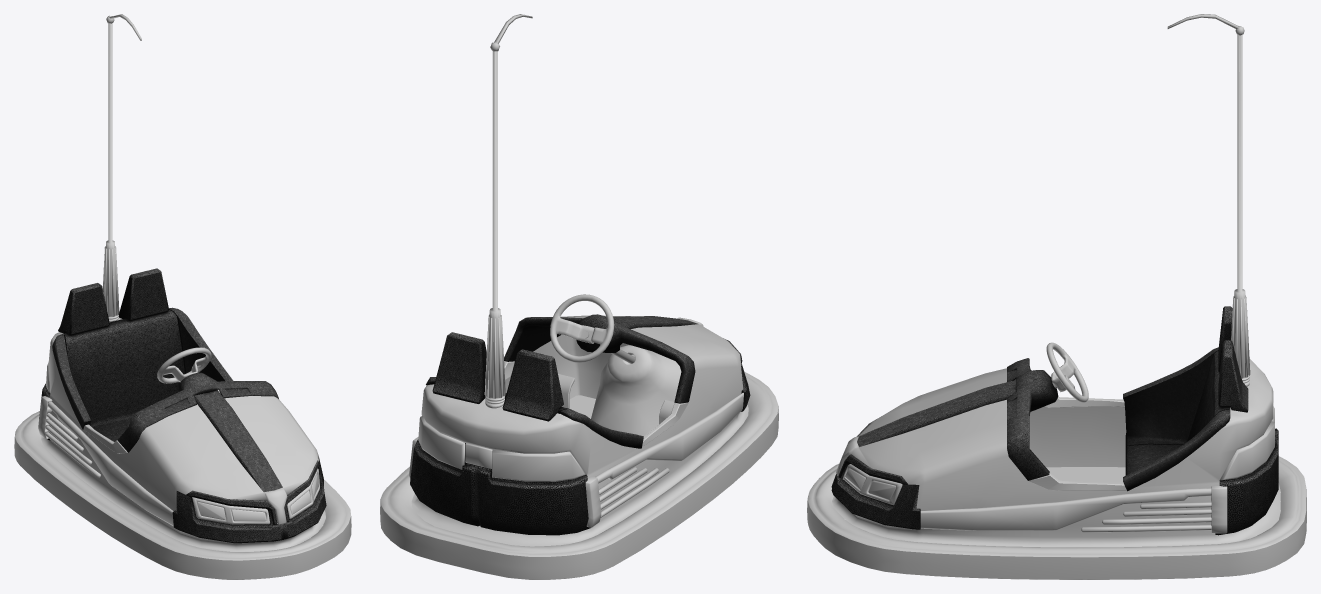
Rendered from carrito_chocon.obj.
3 views of the same model, side by side, from view 1: azimuth 30°, elevation 25°; view 2: azimuth 150°, elevation 25°; view 3: azimuth 270°, elevation 25° (orthographic). The views are drawn at different scales.
Visible parts, largest first — view 1: polySurface642, polySurface607, polySurface483, polySurface632; view 2: polySurface607, polySurface642, polySurface483, polySurface632; view 3: polySurface607, polySurface642, polySurface483, polySurface632.
Part boxes in pixels (x1=…): polySurface642: x1=39, y1=268, x2=326, y2=543; polySurface607: x1=38, y1=14, x2=325, y2=551; polySurface483: x1=14, y1=411, x2=351, y2=579; polySurface632: x1=45, y1=413, x2=192, y2=497; polySurface607: x1=409, y1=14, x2=748, y2=546; polySurface642: x1=410, y1=314, x2=750, y2=535; polySurface483: x1=380, y1=372, x2=778, y2=579; polySurface632: x1=504, y1=334, x2=688, y2=517; polySurface607: x1=832, y1=14, x2=1280, y2=547; polySurface642: x1=831, y1=306, x2=1278, y2=535; polySurface483: x1=807, y1=456, x2=1306, y2=579; polySurface632: x1=866, y1=396, x2=1211, y2=532.
Bounding box in the file's own units: 20.21 × 41.13 × 36.59.
